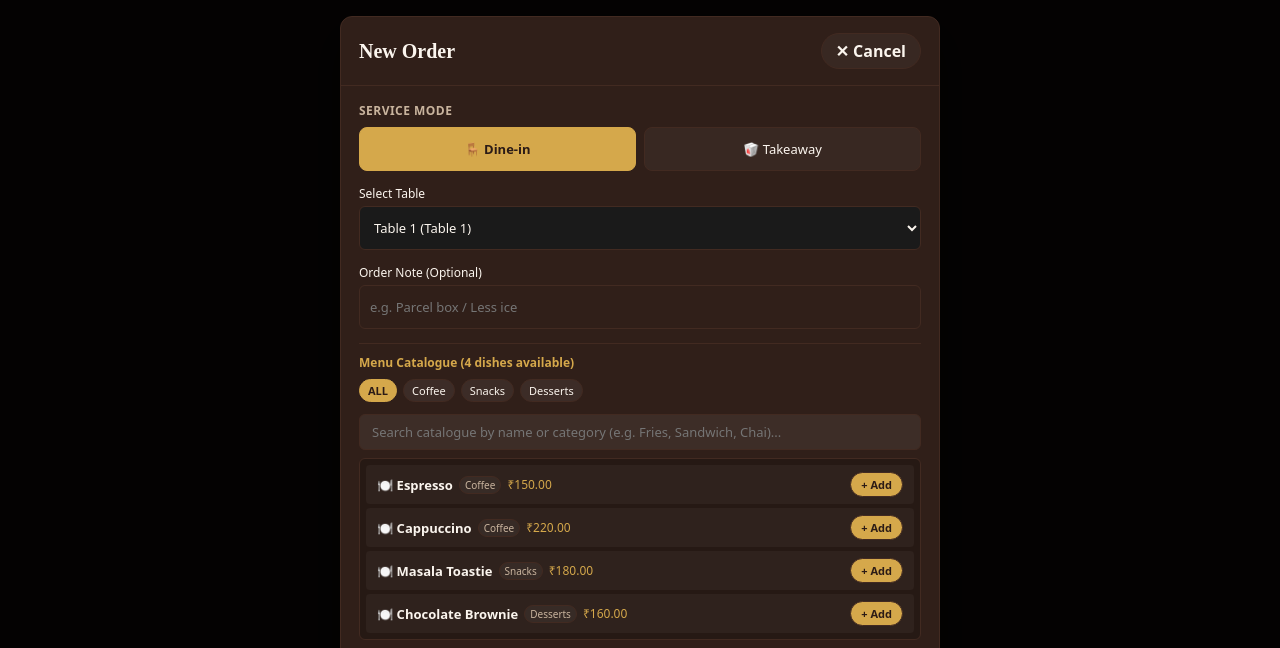
Test: ManualOrderModal Component › filters dishes by category chips and allows clearing search
The image size is (1280, 648).
# Click "Coffee" category chip
Click the button "Coffee" at {"x": 429, "y": 390}, box 403,379 -> 455,402
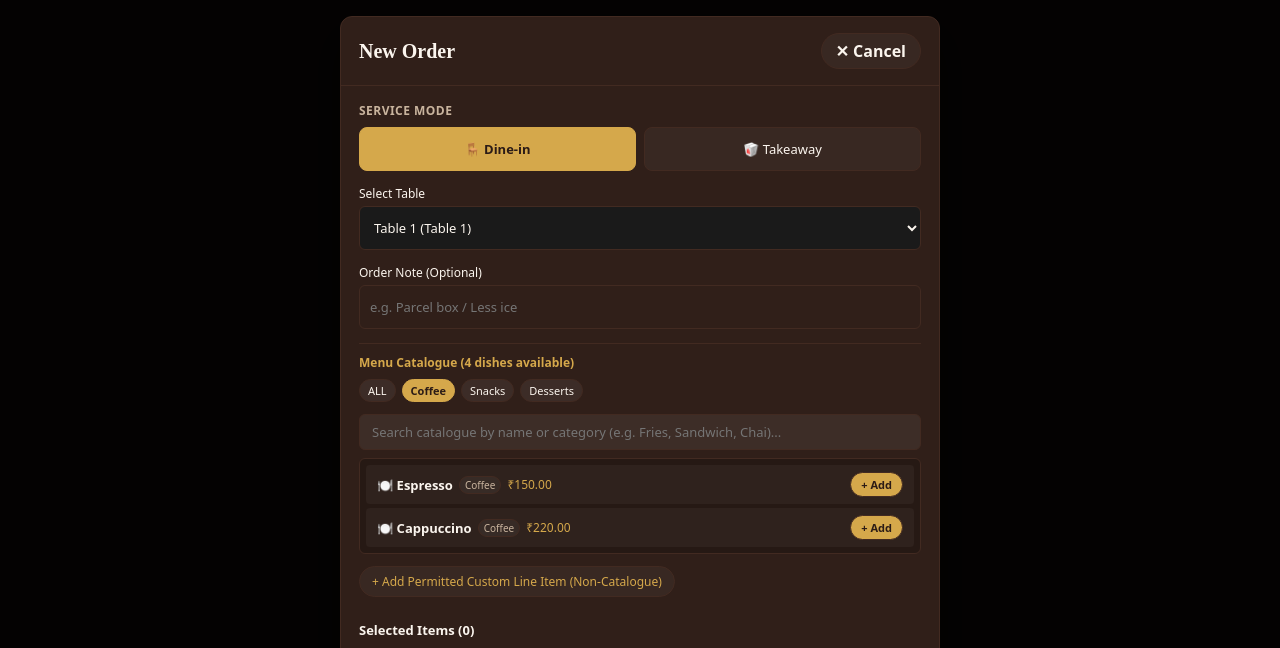
Expected: the text "🍽️ Espresso" is shown, 377,476 -> 453,494
Now the text "🍽️ Masala Toastie" is gone
# Click "ALL"
Click the button "ALL" at {"x": 377, "y": 390}, box 359,379 -> 396,402
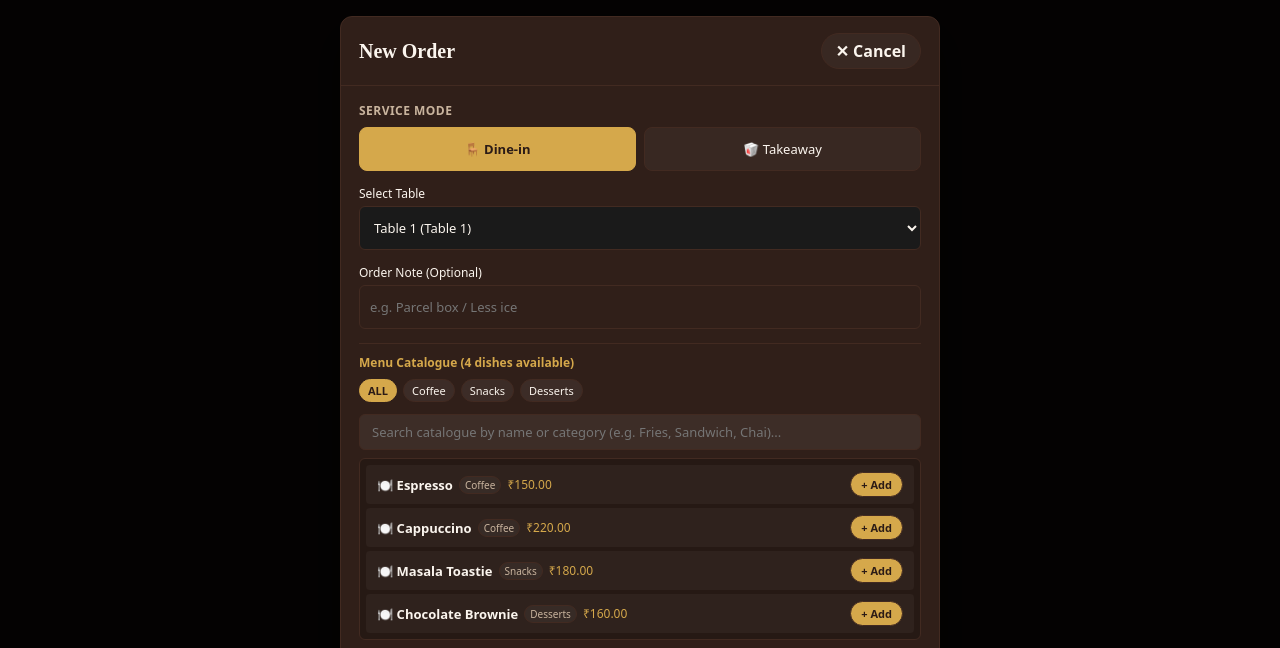
Now the text "🍽️ Masala Toastie" is shown, box 377,562 -> 492,580
# Search for "Toastie"
Replace the text in the field named "Search menu dishes" with "Toastie" at {"x": 640, "y": 432}, box 359,414 -> 921,450
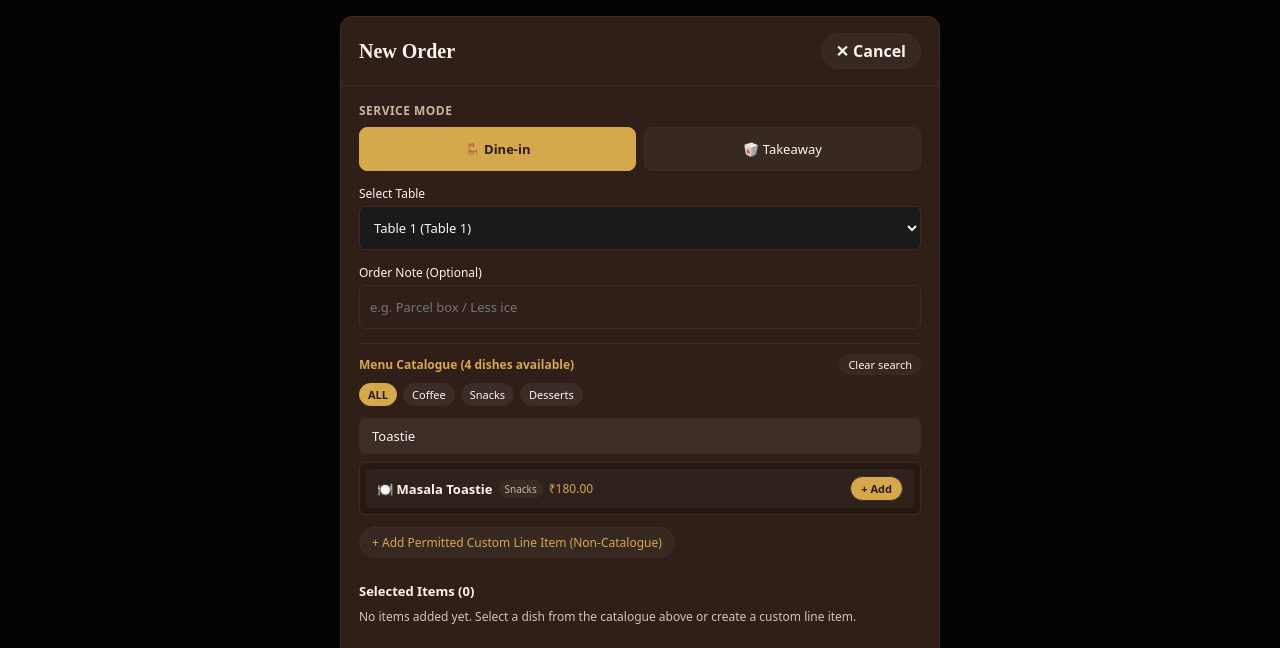
Now the text "🍽️ Masala Toastie" is shown, box 377,480 -> 492,498
Now the text "🍽️ Espresso" is gone
# Clear search
Click the button "Clear search" at {"x": 880, "y": 364}, box 839,354 -> 921,375
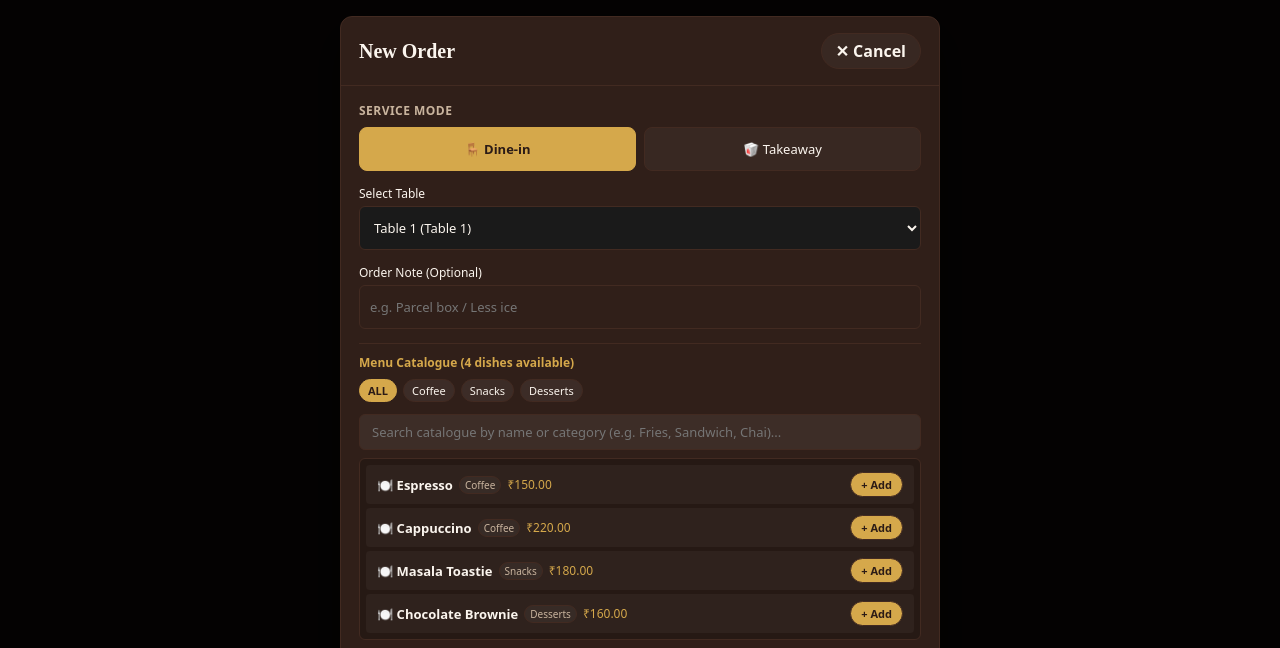
Now the text "🍽️ Espresso" is shown, box 377,476 -> 453,494
Now the field named "Search menu dishes" is empty, box 359,414 -> 921,450
